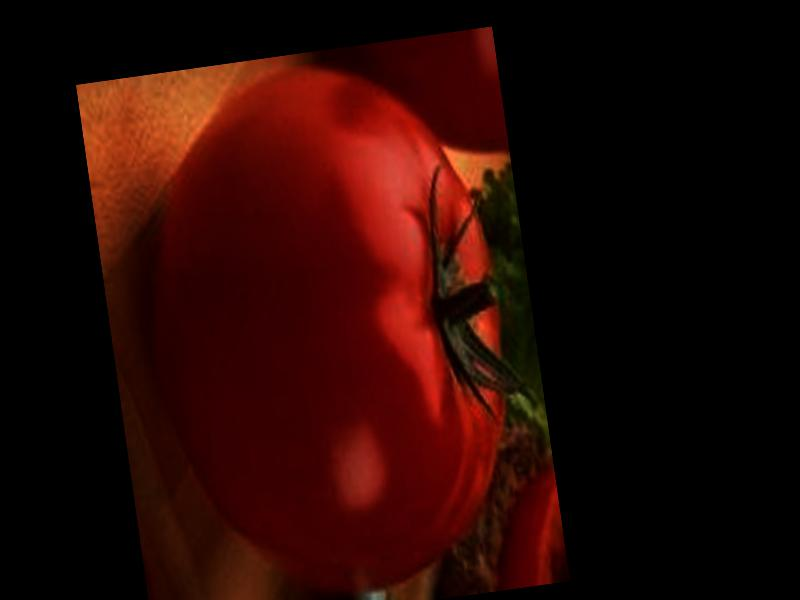Tomato: (124, 46, 534, 600)
